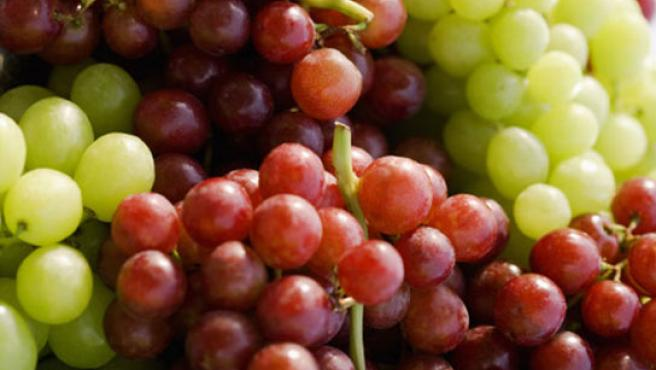Green grapes: (412, 1, 650, 225), (2, 87, 127, 370)
Red Grapes: (150, 144, 497, 370), (295, 44, 365, 120)
